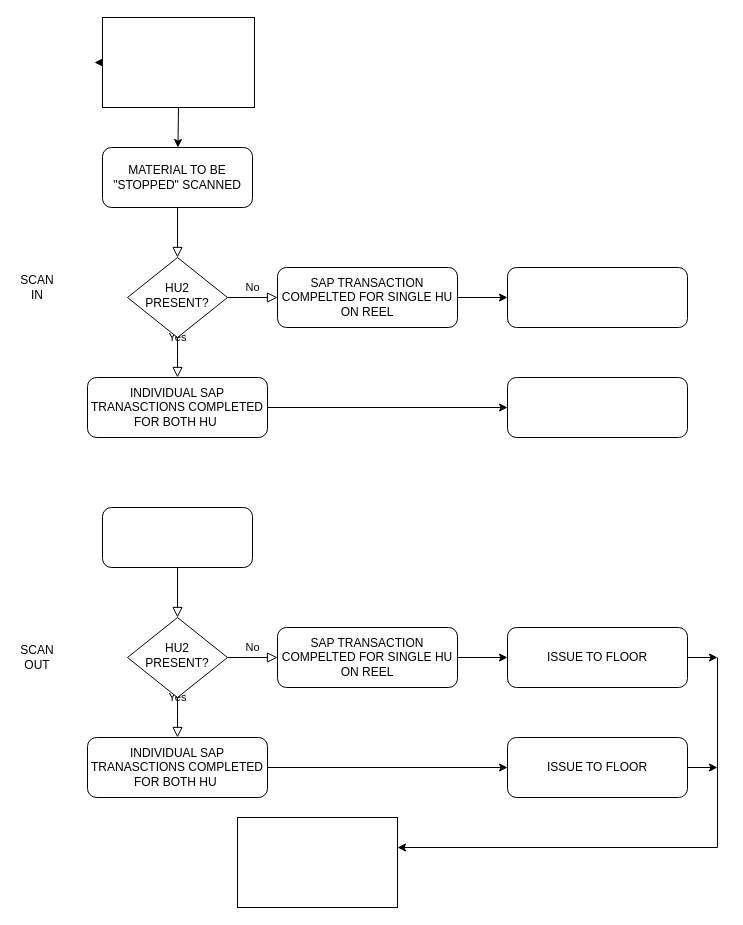
Some shapes in this 743 by 925 pixel diagram are drawn without their labels. Here are the shapes that lost their labels. From the top down, the centre of each, then its label:
[178,62]: MATERIAL REMOVED FROM ASM FEEDER
[597,297]: PRINT LABLE
[597,407]: PRINT LABLE FOR FULL REEL HU (SPLICE WILL BE RECALLED BY ASM)
[177,537]: MATERIAL TO BE "STARTED" SCANNED
[317,862]: PUT BACK ONTO ASM, BOTH HU ARE RECALLED USING THE PRE-EXISTING "UNIQUE ID"
